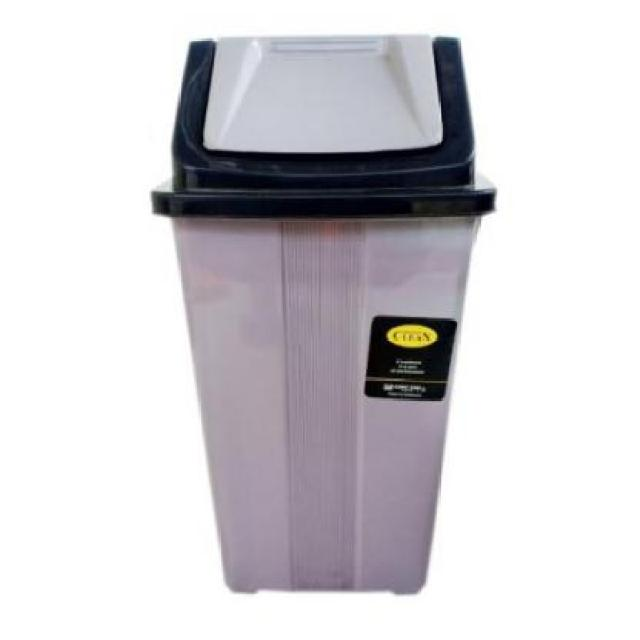garbage container: (140, 21, 503, 628)
